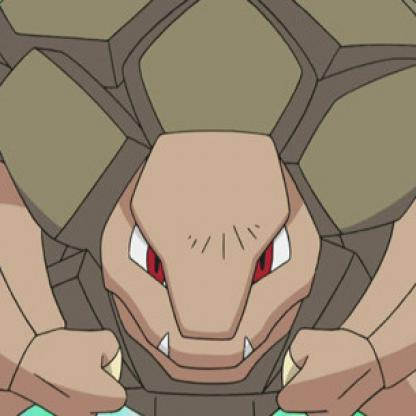Golem: (1, 1, 416, 416)
